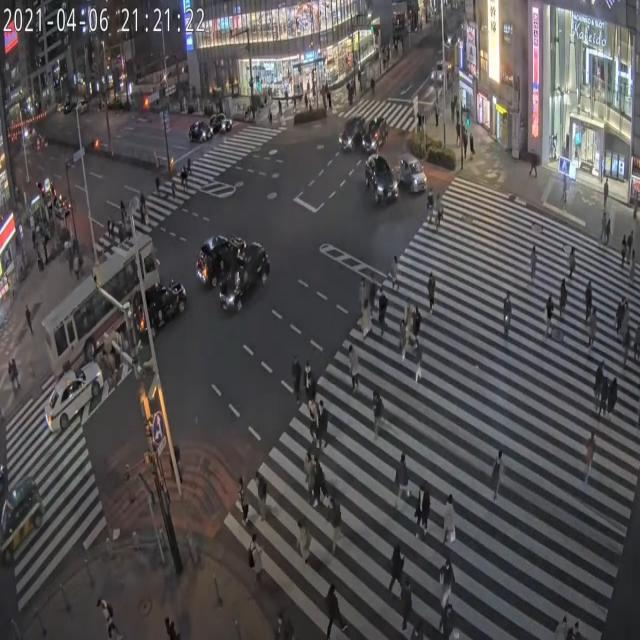bicycle: (496, 278, 516, 354)
humans: (92, 593, 127, 639), (291, 514, 316, 574), (364, 381, 386, 448), (323, 576, 343, 640), (235, 478, 256, 538), (341, 346, 363, 403), (489, 438, 506, 507), (326, 489, 344, 552), (393, 444, 409, 512), (584, 423, 598, 497), (310, 454, 327, 514), (440, 597, 463, 640), (422, 261, 438, 322), (244, 528, 262, 582), (389, 534, 405, 594), (300, 446, 315, 510), (436, 550, 453, 605), (415, 477, 429, 543), (409, 332, 424, 391), (252, 467, 266, 525), (524, 231, 538, 287), (439, 488, 456, 534), (554, 275, 571, 321), (289, 353, 303, 407), (562, 233, 579, 277), (273, 592, 288, 640), (386, 248, 402, 292), (362, 298, 376, 348), (356, 273, 370, 323), (539, 291, 553, 339), (422, 185, 436, 231), (583, 276, 597, 322), (398, 317, 410, 370), (377, 289, 389, 341), (588, 302, 598, 360), (622, 313, 632, 371), (306, 397, 317, 447), (301, 359, 315, 398), (316, 398, 326, 450), (620, 297, 633, 337), (434, 192, 446, 235), (400, 577, 410, 627), (601, 362, 611, 412), (608, 372, 618, 416), (406, 294, 416, 336), (567, 616, 583, 640), (368, 271, 377, 313), (594, 358, 602, 402), (413, 304, 422, 343), (412, 605, 422, 640), (617, 288, 624, 335), (628, 251, 636, 285), (558, 611, 566, 640), (620, 237, 626, 275), (628, 227, 634, 265)
